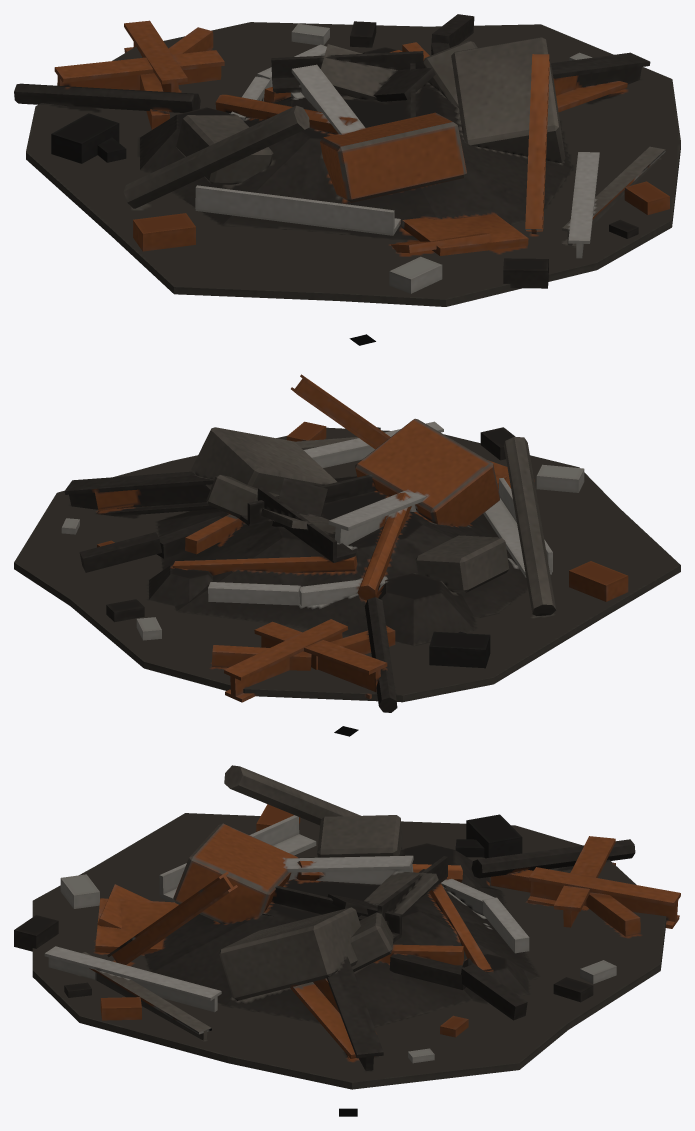
The model's file is scrap_heap_1.fbx.
3 views of the same model, one above another, from view 1: azimuth 30°, elevation 25°; view 2: azimuth 150°, elevation 25°; view 3: azimuth 270°, elevation 25° (orthographic). The views are drawn at different scales.
Visible parts, largest first — view 1: base_bar; view 2: base_bar; view 3: base_bar.
Part boxes in pixels (x1,y1,x2,y2): base_bar: (14, 14, 680, 306); base_bar: (14, 374, 680, 712); base_bar: (14, 765, 680, 1089).
Bounding box in the file's own units: 679 × 340 × 709.
Materials: 2 (2 with a texture image).
